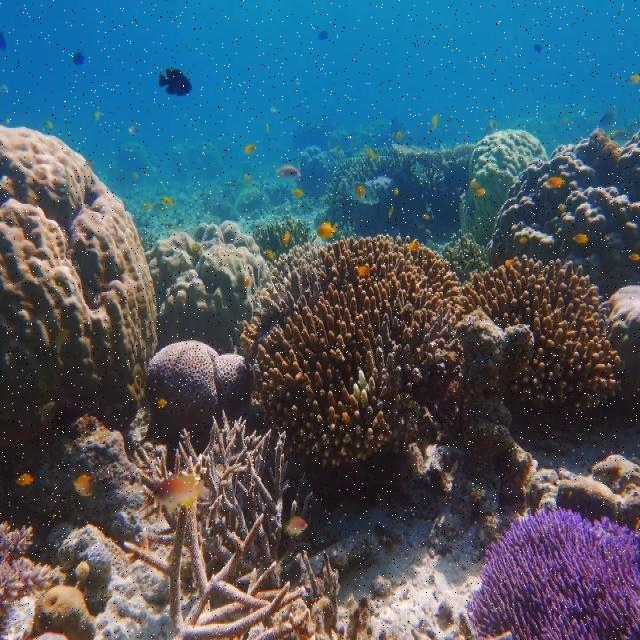fish: (153, 474, 204, 514), (159, 69, 192, 96), (74, 472, 97, 496), (283, 516, 308, 538), (317, 222, 338, 240), (275, 165, 301, 179), (16, 474, 34, 485), (547, 176, 565, 187)
reefs: (121, 409, 400, 639), (239, 233, 474, 470), (0, 125, 157, 446), (487, 128, 639, 371), (466, 254, 622, 410), (465, 502, 639, 639), (145, 221, 269, 321), (459, 129, 549, 244), (144, 340, 253, 413), (252, 214, 318, 254), (441, 229, 488, 281)
